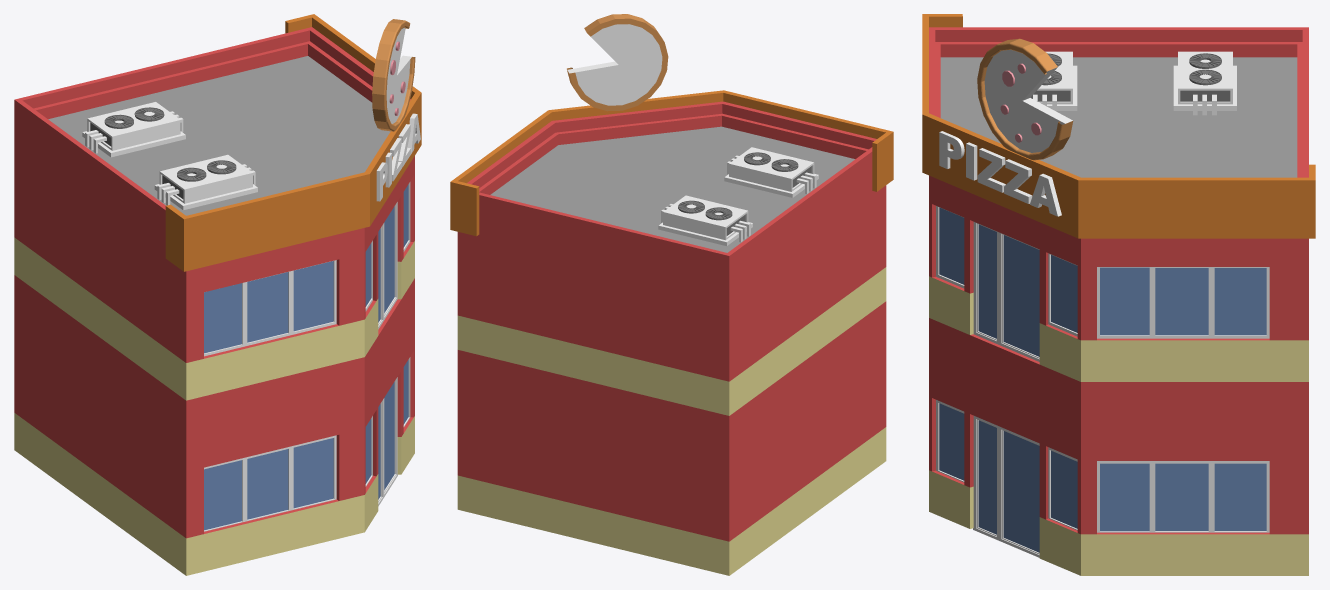
Rendered from Pizza_House_tran.glb.
The picture shows the model from 3 angles, left to right: view 1: azimuth 30°, elevation 25°; view 2: azimuth 150°, elevation 25°; view 3: azimuth 270°, elevation 25°; orthographic projection. The views are drawn at different scales.
Visible parts, largest first — view 1: House_1.001, Roof_12.001, House_2_2.001, Windows_3_6.002, Windows_3_6.003, Cube.045, Cube.044, Pizza_2_2, Door_14_2.002, Door_14_2.003, Pizza_2; view 2: House_1.001, Roof_12.001, House_2_2.001, Pizza_2_2, Cube.044, Cube.045; view 3: House_1.001, Roof_12.001, House_2_2.001, Windows_1_6.002, Windows_1_6.003, Pizza_2_2, Door_14_2.002, Door_14_2.003, Cube.045, Pizza_2, Windows_5_5.003, Windows_5_5.002 (+3 smaller).
Part boxes in pixels (box(x1,y1,x2,y2)): House_1.001: box(14, 27, 414, 575); Roof_12.001: box(48, 56, 390, 215); House_2_2.001: box(165, 14, 421, 271); Windows_3_6.002: box(204, 435, 336, 531); Windows_3_6.003: box(204, 260, 336, 356); Cube.045: box(82, 102, 185, 157); Cube.044: box(154, 154, 257, 210); Pizza_2_2: box(372, 19, 415, 131); Door_14_2.002: box(378, 377, 397, 506); Door_14_2.003: box(378, 202, 397, 329); Pizza_2: box(376, 113, 420, 201); House_1.001: box(457, 101, 886, 575); Roof_12.001: box(490, 126, 854, 252); House_2_2.001: box(450, 90, 893, 236); Pizza_2_2: box(567, 14, 668, 111); Cube.044: box(724, 147, 818, 197); Cube.045: box(658, 195, 752, 245); House_1.001: box(929, 27, 1308, 575); Roof_12.001: box(940, 57, 1297, 177); House_2_2.001: box(922, 14, 1315, 238); Windows_1_6.002: box(1097, 461, 1269, 532); Windows_1_6.003: box(1097, 267, 1269, 338); Pizza_2_2: box(977, 38, 1073, 160); Door_14_2.002: box(973, 416, 1039, 557); Door_14_2.003: box(973, 222, 1039, 361); Cube.045: box(1173, 51, 1236, 115); Pizza_2: box(939, 131, 1061, 216); Windows_5_5.003: box(1048, 253, 1077, 336); Windows_5_5.002: box(1048, 447, 1077, 530).
Bounding box in the file's own units: 0.2347 × 0.3348 × 0.2347.
